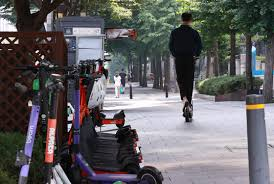nonhelmet: (168, 12, 204, 123)
